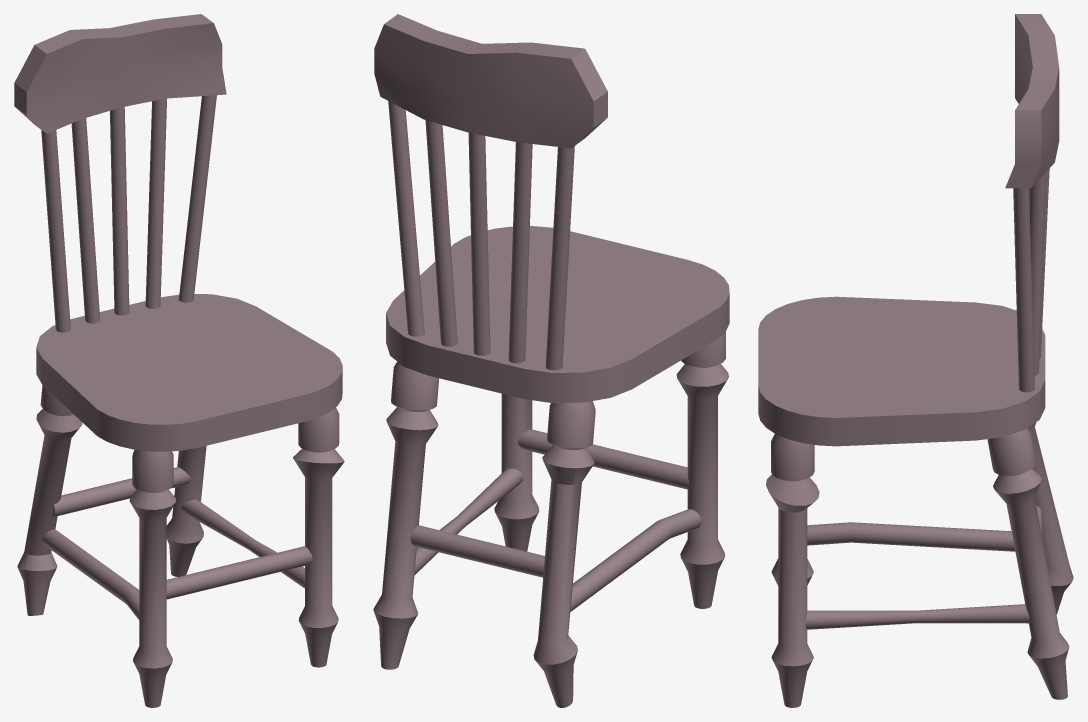
The model's file is chair2.fbx.
3 views of the same model, side by side, from view 1: azimuth 30°, elevation 25°; view 2: azimuth 150°, elevation 25°; view 3: azimuth 270°, elevation 25° (orthographic). The views are drawn at different scales.
Visible parts, largest first — view 1: Chair 2; view 2: Chair 2; view 3: Chair 2.
Boxes of the visible parts, <box> form: Chair 2: <box>14,14,344,707</box>; Chair 2: <box>373,14,729,707</box>; Chair 2: <box>758,14,1073,707</box>.
Size of the model in its own units: 90 by 98.96 by 210.
